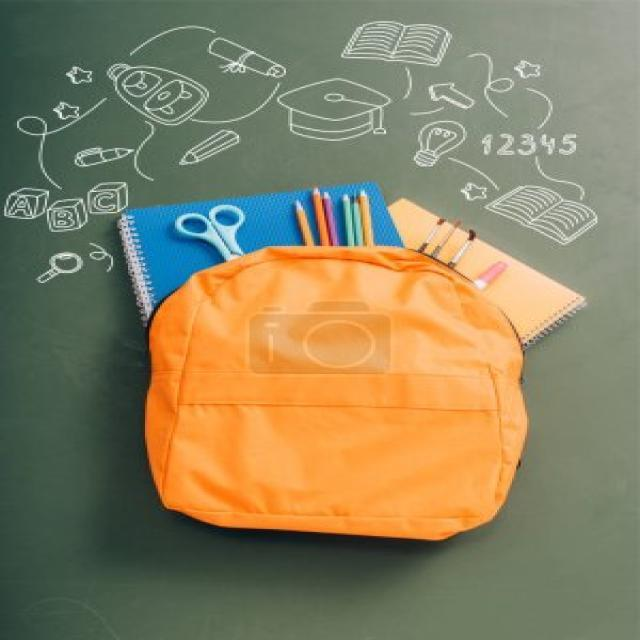tesoura: (169, 200, 255, 320)
